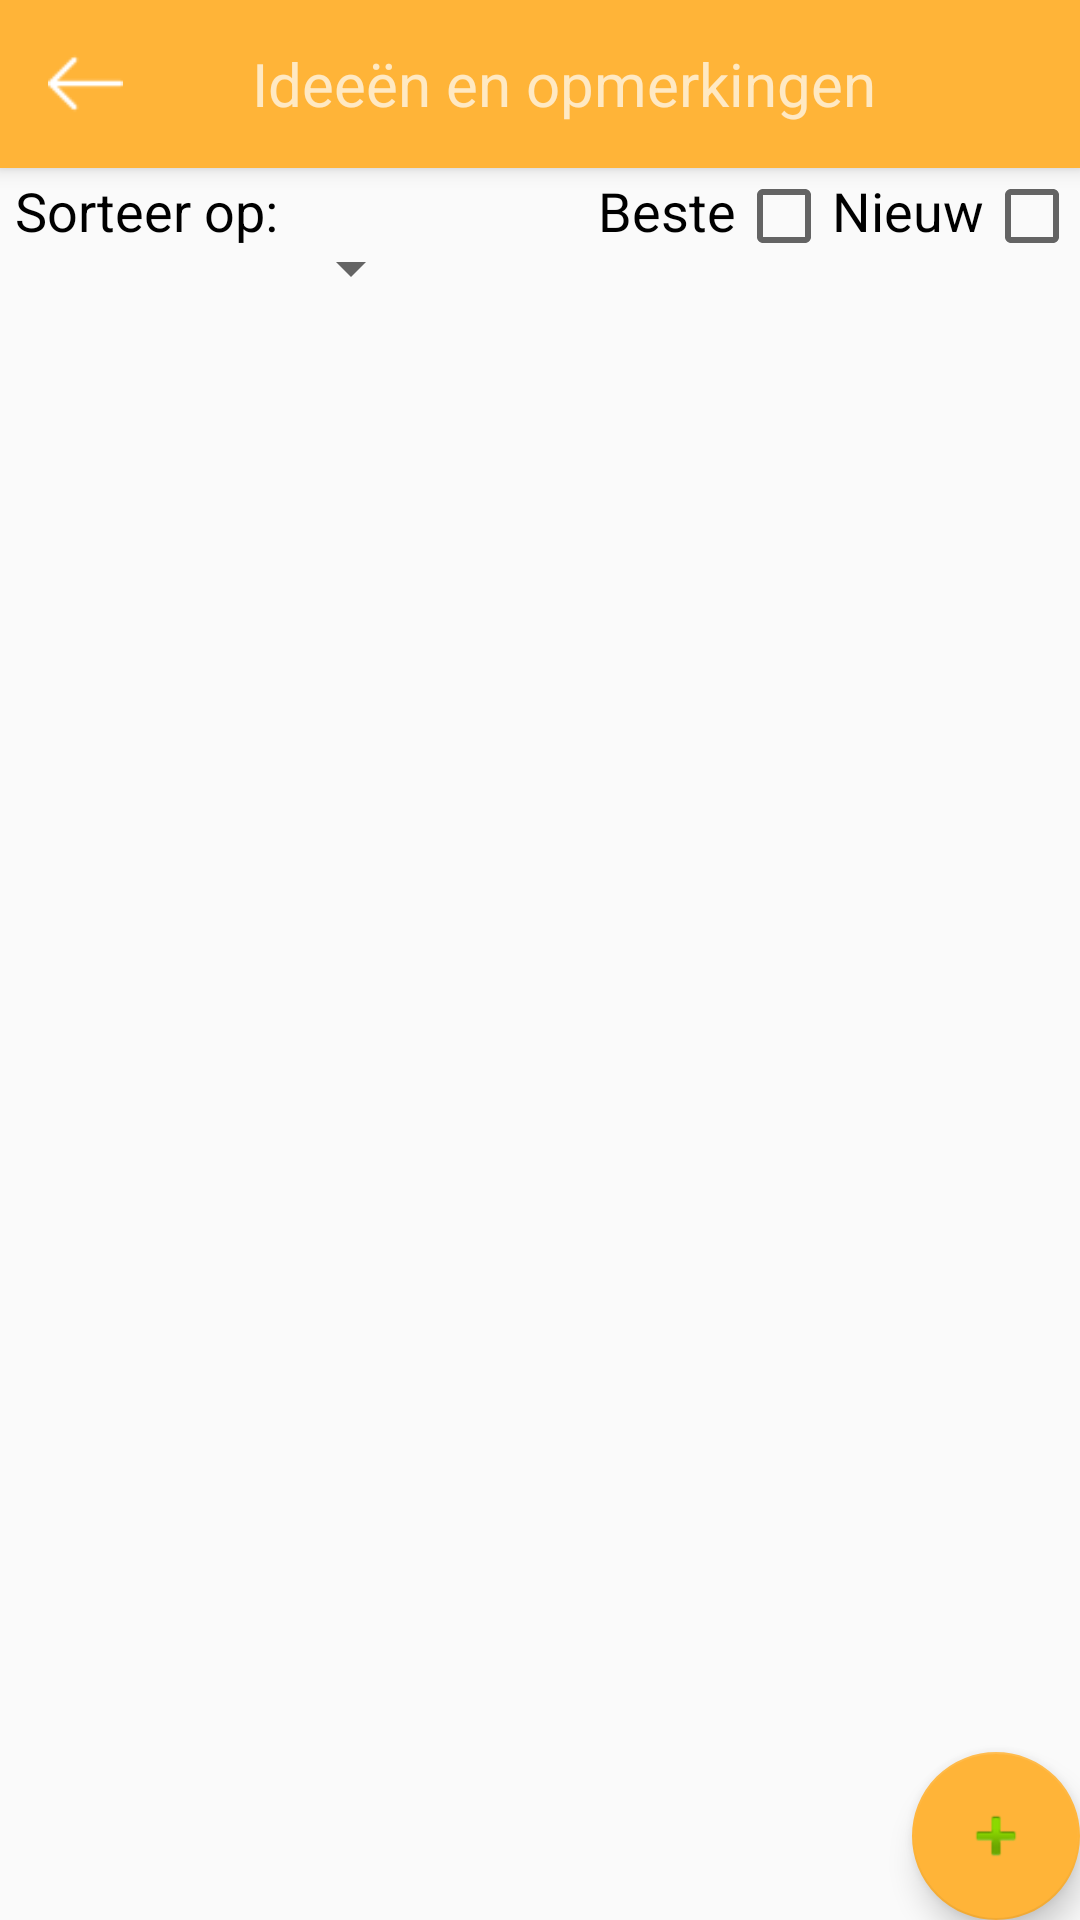

Named icons in this screenshot (1080px x 1920px) and their centers, (x,y):
add: (996,1836)
back: (85,83)
